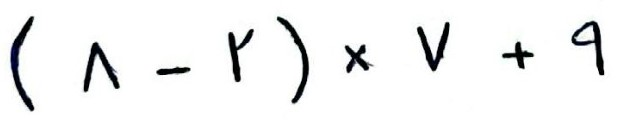character: (278, 15, 313, 104), (9, 15, 36, 112), (571, 20, 608, 77), (83, 42, 122, 93), (415, 21, 452, 72), (227, 27, 257, 83), (501, 40, 536, 71), (345, 43, 372, 73), (156, 65, 192, 77)
